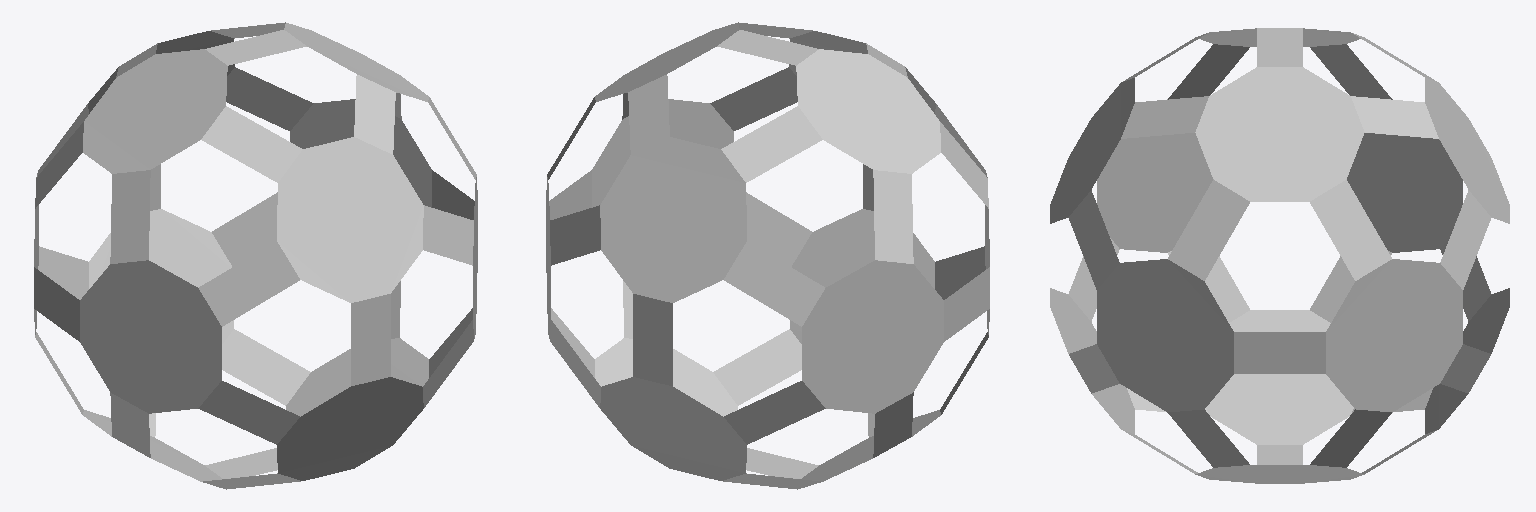
File: dodb.obj
3 renders of one model, left to right at view 1: azimuth 30°, elevation 25°; view 2: azimuth 150°, elevation 25°; view 3: azimuth 270°, elevation 25°, orthographic.
Visible parts, largest first — view 1: dodb, dodb.001; view 2: dodb, dodb.001; view 3: dodb, dodb.001.
Boxes of the visible parts, box(x1,y1,x2,y2) form: dodb: box(34, 23, 477, 488); dodb.001: box(34, 22, 477, 489); dodb: box(546, 22, 989, 489); dodb.001: box(546, 23, 989, 488); dodb: box(1050, 28, 1509, 483); dodb.001: box(1050, 28, 1509, 483).
Bounding box in the file's own units: 1.95 × 1.95 × 1.95.